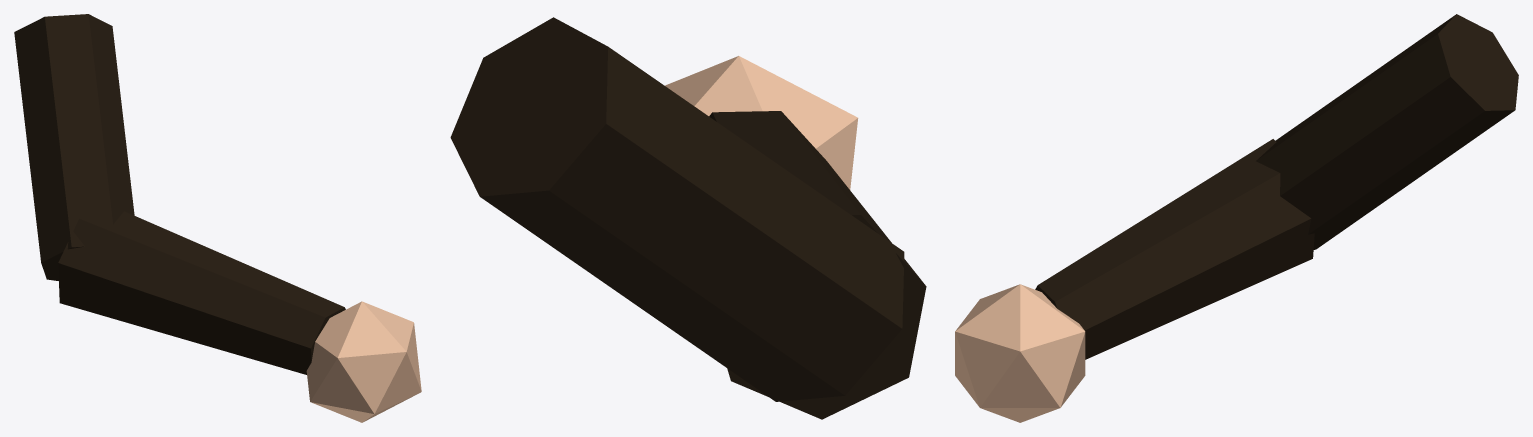
Rendered from arm_right.gltf.
3 renders of one model, left to right at view 1: azimuth 30°, elevation 25°; view 2: azimuth 150°, elevation 25°; view 3: azimuth 270°, elevation 25°, orthographic. The views are drawn at different scales.
Parts seen in each view (by area): view 1: Cylinder.002, Cylinder.001, Icosphere; view 2: Cylinder.001, Cylinder.002, Icosphere; view 3: Cylinder.001, Cylinder.002, Icosphere.
Part boxes in pixels (<box>): Cylinder.002: <box>58,211,345,374</box>; Cylinder.001: <box>14,14,134,280</box>; Icosphere: <box>306,301,421,422</box>; Cylinder.001: <box>450,17,904,401</box>; Cylinder.002: <box>709,111,926,419</box>; Icosphere: <box>665,56,858,189</box>; Cylinder.001: <box>1256,14,1518,249</box>; Cylinder.002: <box>1035,139,1314,359</box>; Icosphere: <box>955,284,1085,422</box>.
Bounding box in the file's own units: 1.11 × 1.24 × 1.87.
